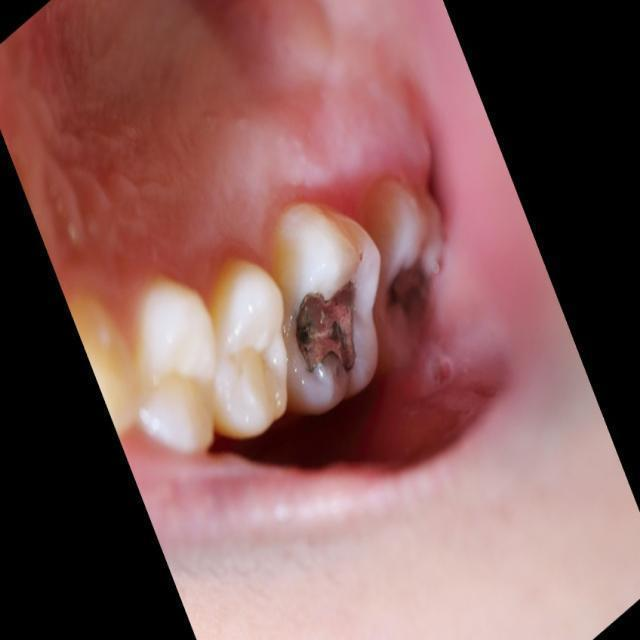Cavity: (291, 241, 366, 404), (385, 212, 455, 354)
